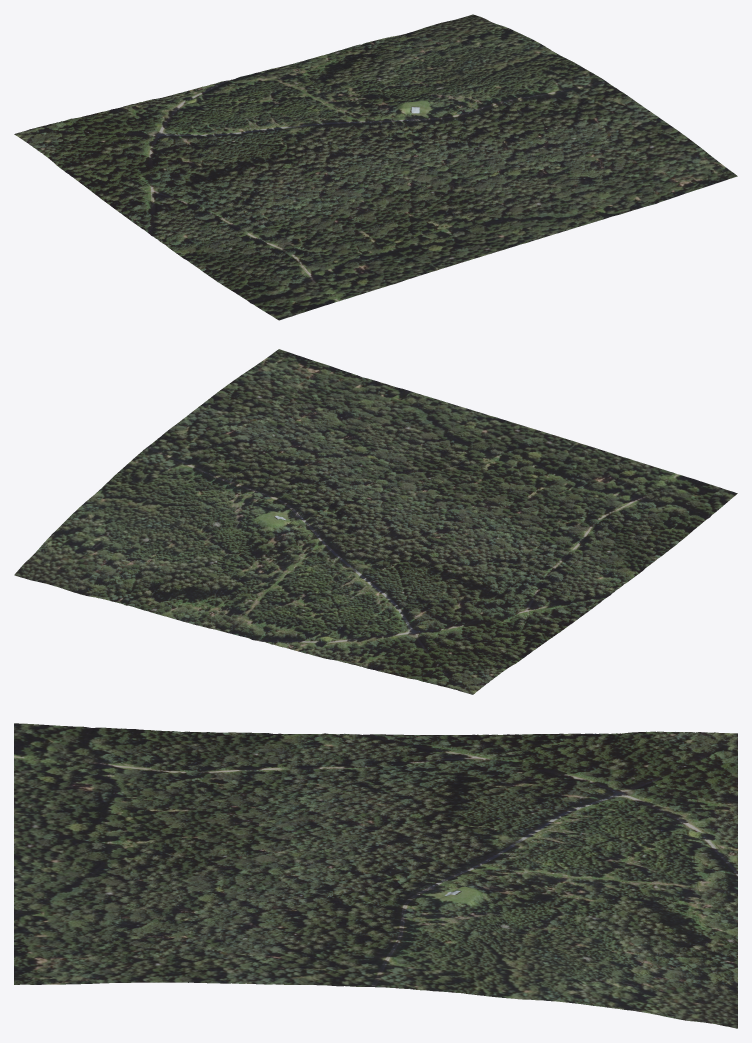
Rendered from terrain_3_0.glb.
3 views of the same model, one above another, from view 1: azimuth 30°, elevation 25°; view 2: azimuth 150°, elevation 25°; view 3: azimuth 270°, elevation 25° (orthographic). The views are drawn at different scales.
Parts seen in each view (by area): view 1: geometry_0; view 2: geometry_0; view 3: geometry_0.
Part boxes in pixels (bbox=[...]): geometry_0: bbox=[14, 14, 737, 320]; geometry_0: bbox=[14, 349, 737, 694]; geometry_0: bbox=[14, 723, 737, 1028].
Bounding box in the file's own units: 499 × 44.48 × 499.
1 material, 1 textured.
